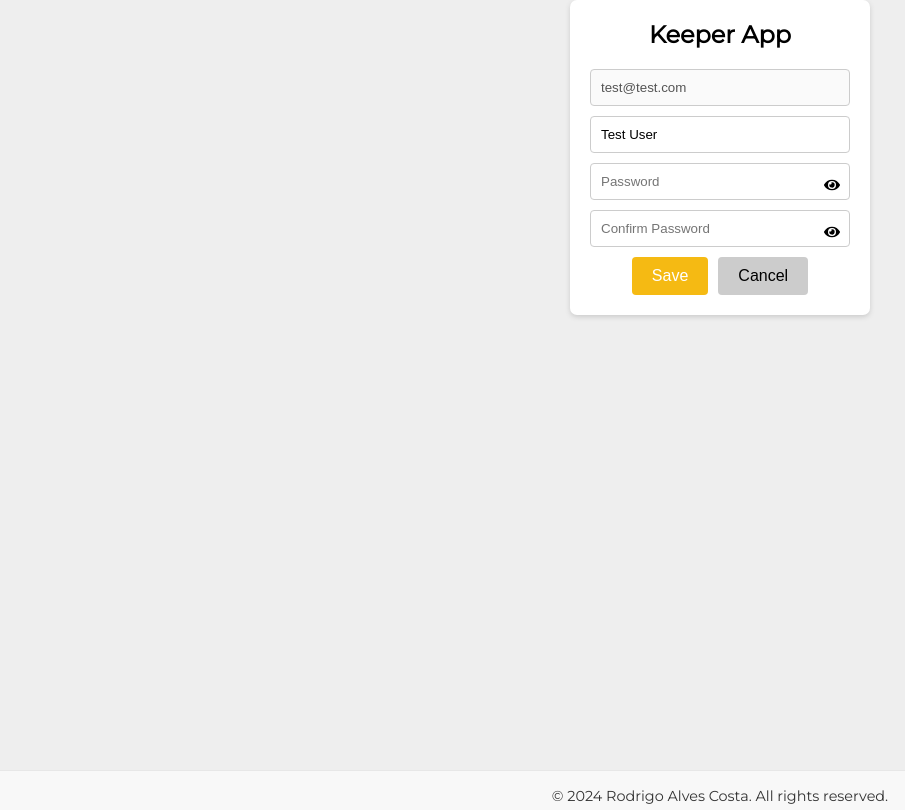
Scenario: UserForm › should successfully update a user profile
This screenshot has width=905, height=810.
Step 1. Type "password123" into the password field with placeholder "Password" → (720, 182), box [590,163,850,200]
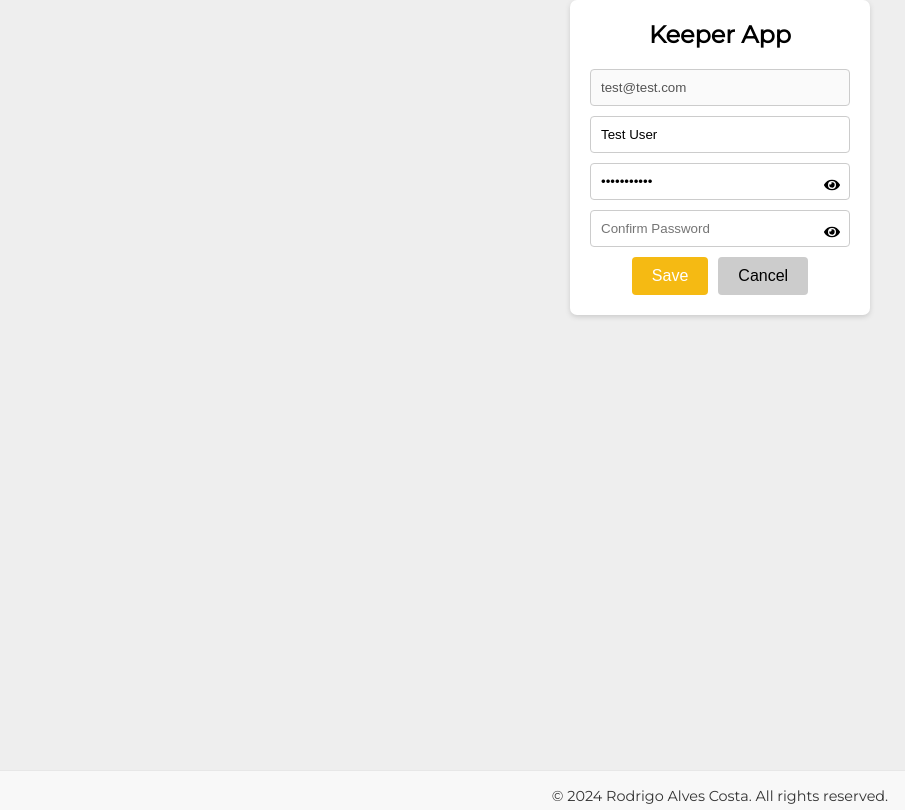
Step 2. Type "password123" into the password field with placeholder "Confirm Password" → (720, 228), box [590,210,850,247]
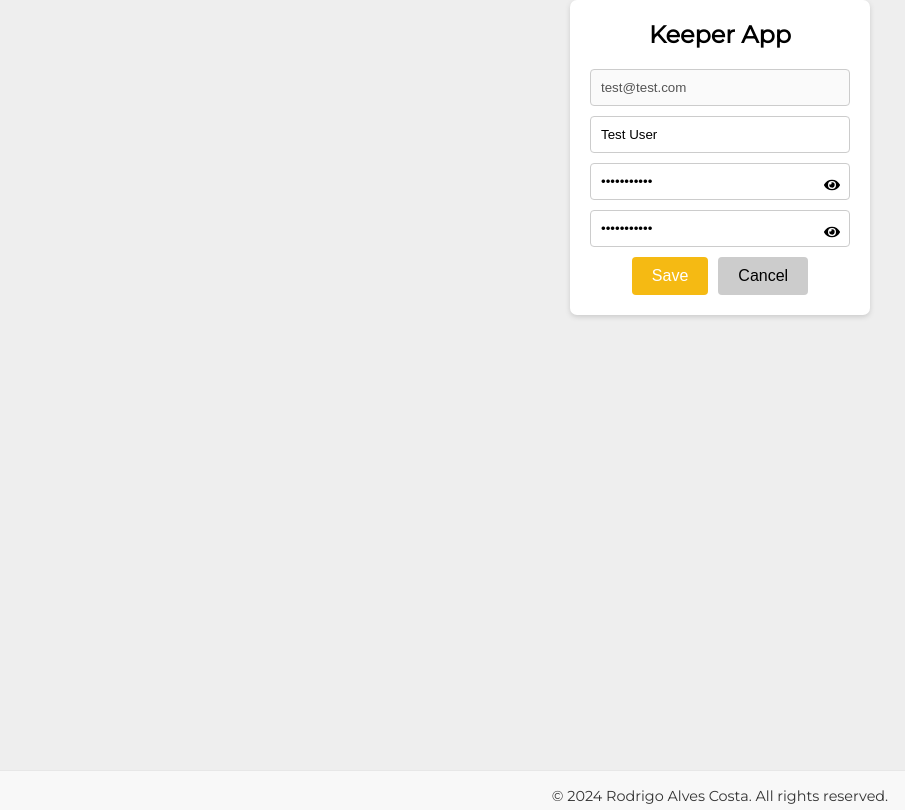
Step 3. Click the button "Save" → (670, 276), box [632,257,708,295]
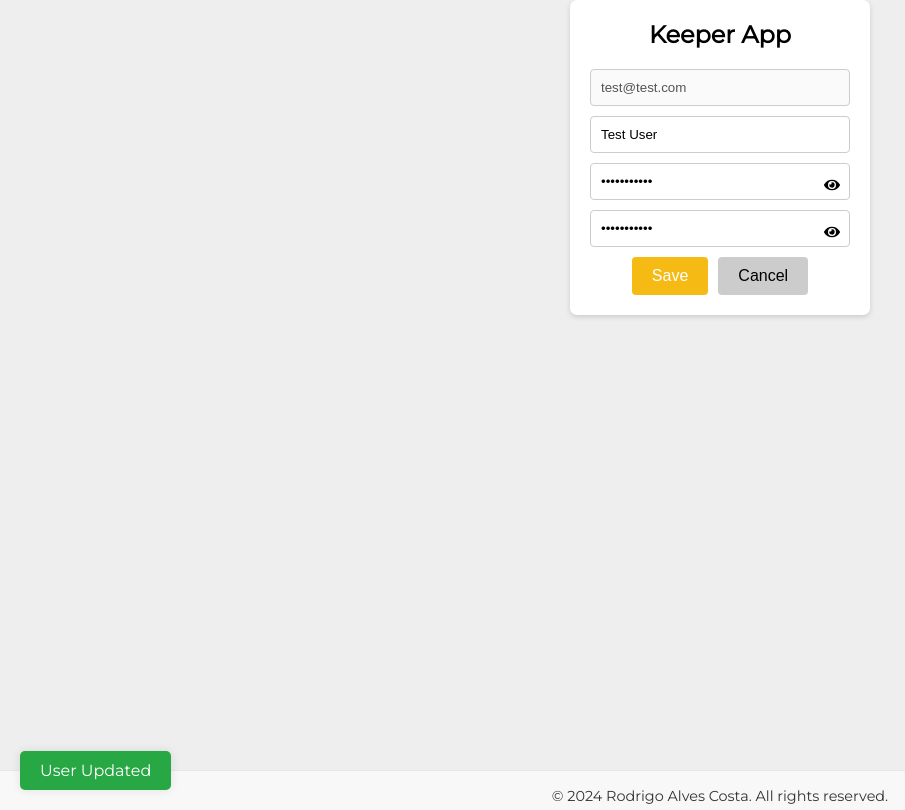
Expected: the text "User Updated" is shown, [20,751,171,790]
